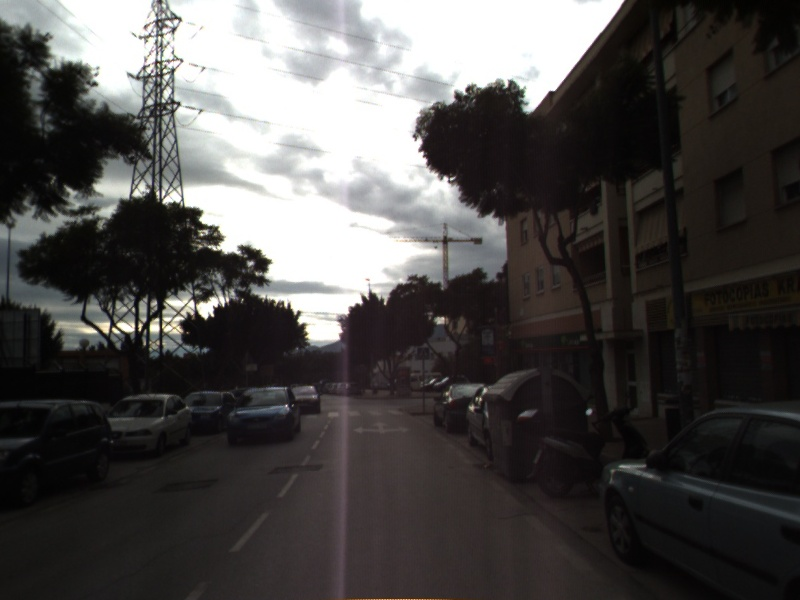STRAIGHT_LEFT_RIGHT: (351, 419, 413, 436)
